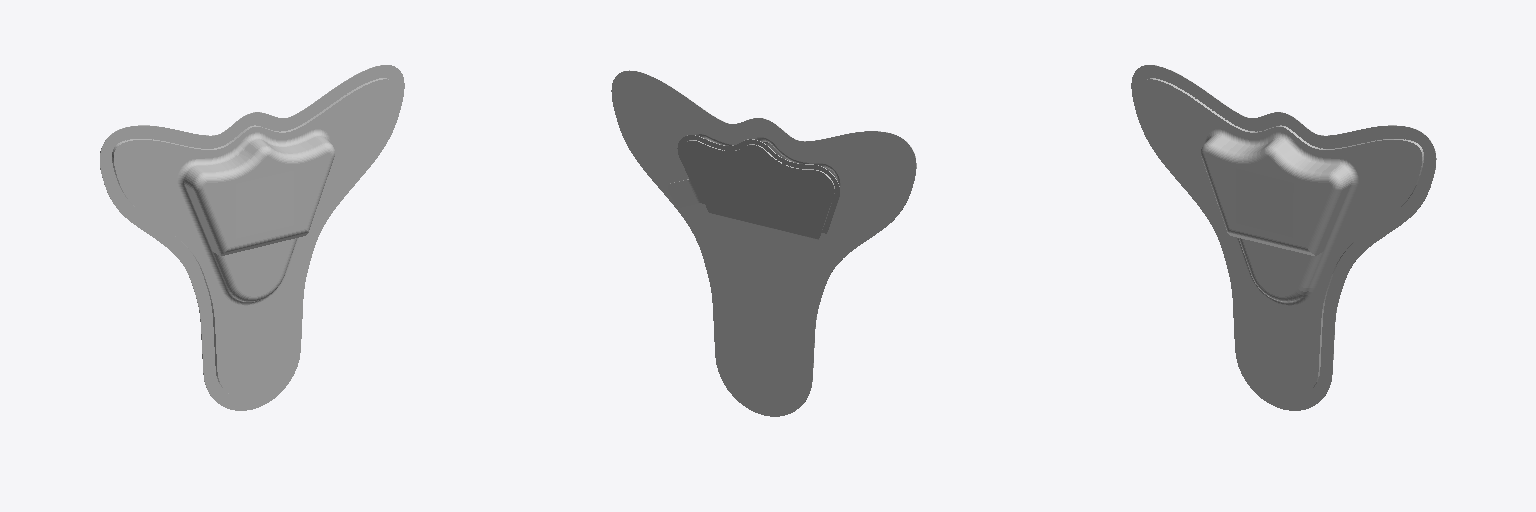
Rendered from patchV2.1.obj.
3 views of the same model, side by side, from view 1: azimuth 30°, elevation 25°; view 2: azimuth 150°, elevation 25°; view 3: azimuth 330°, elevation 25° (orthographic).
Parts seen in each view (by area): view 1: VS-100-E3, Icone_patch_Inomedis; view 2: VS-100-E3; view 3: VS-100-E3, Icone_patch_Inomedis.
Part boxes in pixels (bbox=[...]): VS-100-E3: bbox=[100, 65, 404, 410]; Icone_patch_Inomedis: bbox=[236, 171, 293, 238]; VS-100-E3: bbox=[611, 70, 916, 416]; VS-100-E3: bbox=[1131, 65, 1436, 410]; Icone_patch_Inomedis: bbox=[1236, 168, 1293, 237].
Bounding box in the file's own units: 1.25 × 1.23 × 0.1779.